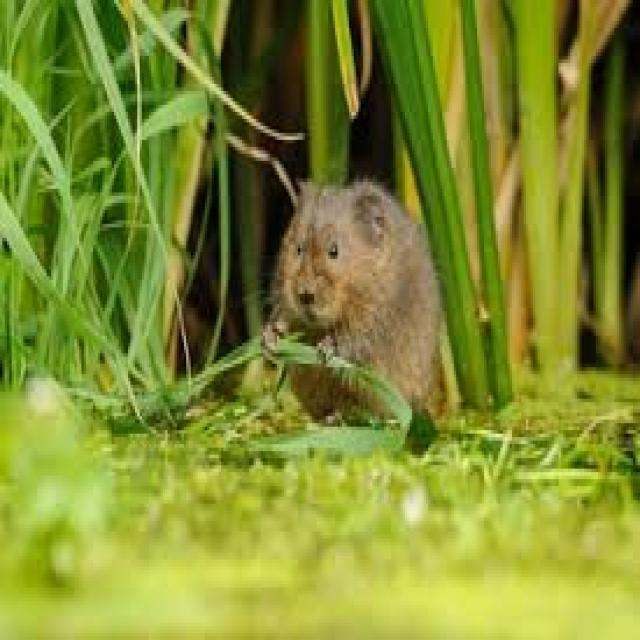rat: (258, 171, 458, 427)
